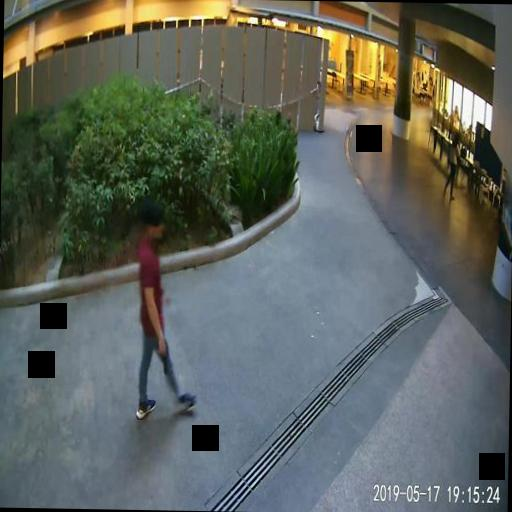Handgun: (154, 340, 172, 376)
